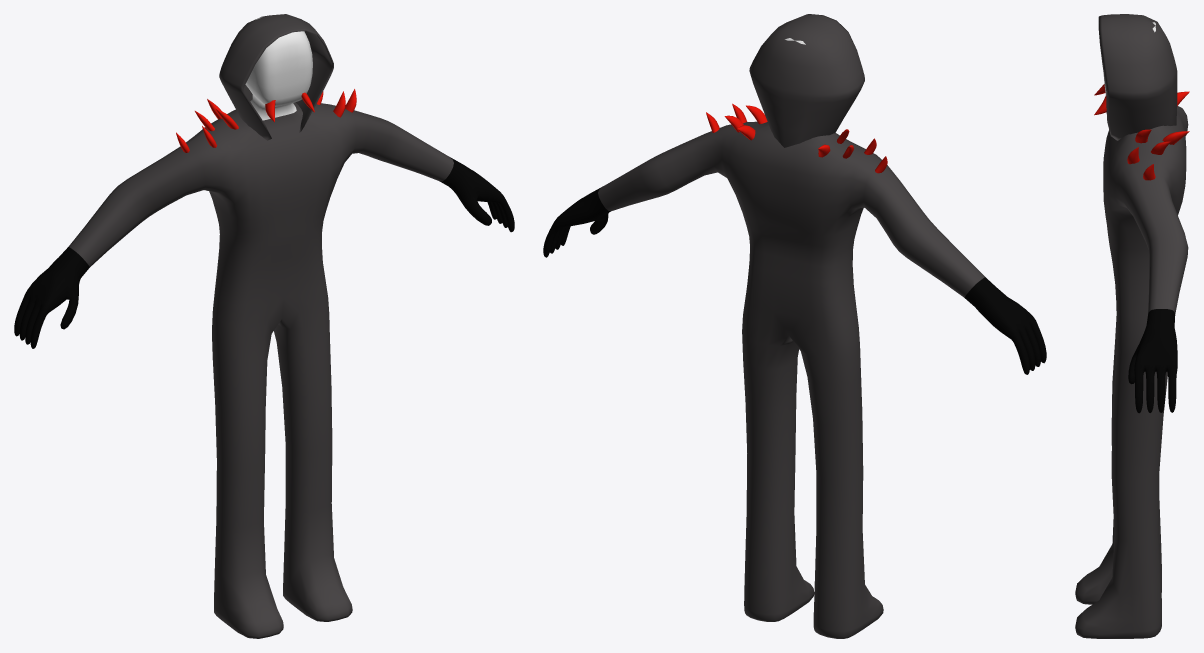
File: spellcaster boss.fbx
3 renders of one model, left to right at view 1: azimuth 30°, elevation 25°; view 2: azimuth 150°, elevation 25°; view 3: azimuth 270°, elevation 25°, orthographic.
Parts seen in each view (by area): view 1: Cube, Cube.002, Cube.001; view 2: Cube, Cube.002, Cube.001; view 3: Cube, Cube.002, Cube.001.
Boxes of the visible parts, x1,y1,x2,y2 form: Cube: (14, 16, 514, 638); Cube.002: (219, 14, 333, 140); Cube.001: (176, 89, 356, 152); Cube: (543, 38, 1046, 638); Cube.002: (749, 14, 864, 147); Cube.001: (706, 103, 887, 173); Cube: (1075, 22, 1188, 638); Cube.002: (1098, 14, 1177, 140); Cube.001: (1094, 84, 1189, 180).
Bounding box in the file's own units: 173 × 202 × 35.31.
